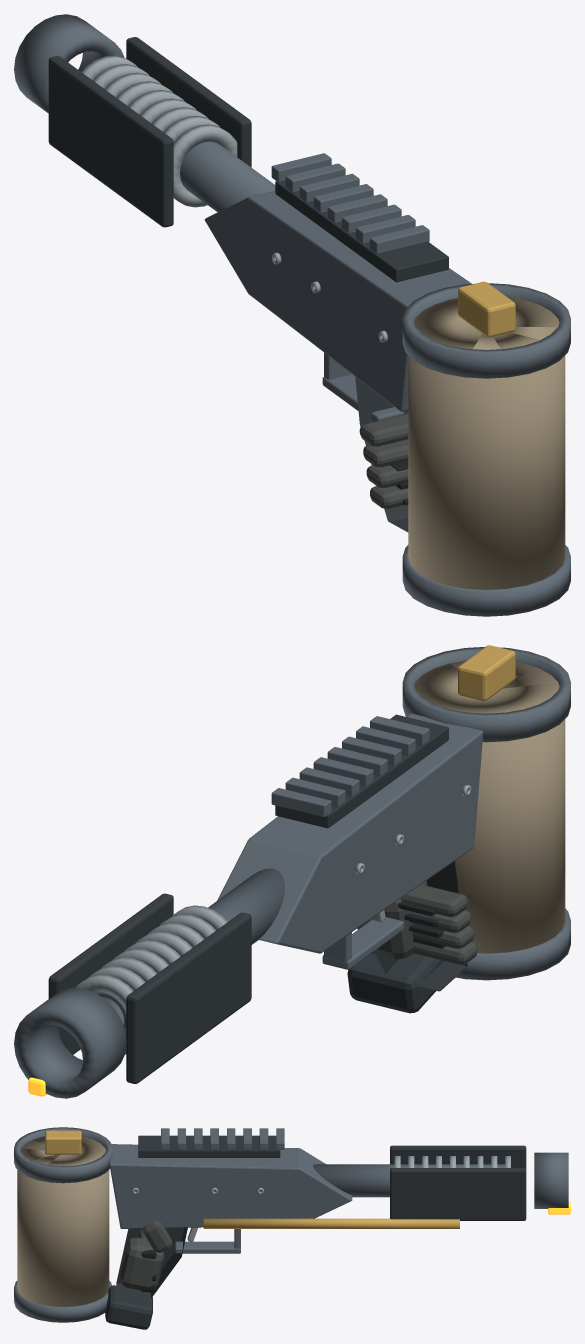
File: flamethrower.glb
3 views of the same model, one above another, from view 1: azimuth 30°, elevation 25°; view 2: azimuth 150°, elevation 25°; view 3: azimuth 270°, elevation 25° (orthographic). The views are drawn at different scales.
Parts seen in each view (by area): view 1: Parts_Parkerized steel, Parts_Cerakote sand, Parts_Graphite polymer, Parts_Machined steel, Parts_Charcoal glove, Parts_Brass; view 2: Parts_Parkerized steel, Parts_Graphite polymer, Parts_Cerakote sand, Parts_Machined steel, Parts_Charcoal glove, Parts_Brass, Parts_Rubber; view 3: Parts_Parkerized steel, Parts_Graphite polymer, Parts_Cerakote sand, Parts_Brass, Parts_Charcoal glove, Parts_Machined steel.
Part boxes in pixels (x1,y1,x2,y2): Parts_Parkerized steel: (14, 14, 570, 616); Parts_Cerakote sand: (408, 297, 565, 589); Parts_Graphite polymer: (48, 37, 448, 532); Parts_Machined steel: (81, 55, 387, 342); Parts_Charcoal glove: (359, 413, 408, 508); Parts_Brass: (458, 281, 515, 337); Parts_Parkerized steel: (14, 647, 570, 1098); Parts_Graphite polymer: (48, 714, 467, 1083); Parts_Cerakote sand: (414, 660, 565, 953); Parts_Machined steel: (76, 784, 471, 1054); Parts_Charcoal glove: (358, 880, 477, 964); Parts_Brass: (458, 645, 515, 700); Parts_Rubber: (357, 902, 445, 948); Parts_Parkerized steel: (14, 1127, 568, 1322); Parts_Graphite polymer: (105, 1135, 526, 1329); Parts_Cerakote sand: (17, 1136, 109, 1306); Parts_Brass: (45, 1130, 459, 1228); Parts_Charcoal glove: (120, 1220, 172, 1290); Parts_Machined steel: (132, 1156, 510, 1241).
Size of the model in its own units: 0.15 by 0.2996 by 0.8465.
